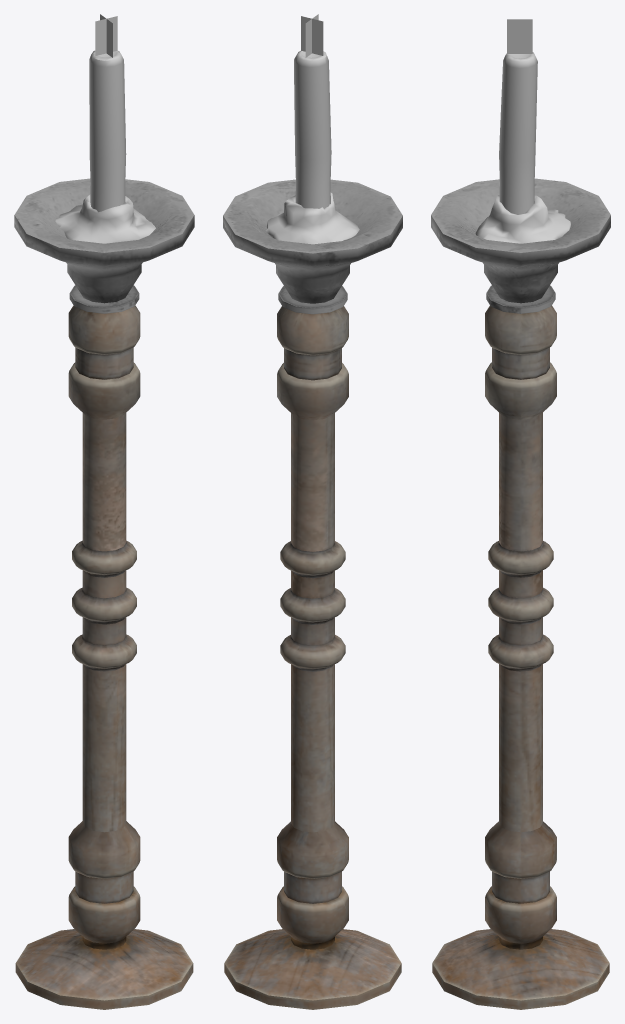
The model's file is SM_candlestick_04.fbx.
3 views of the same model, side by side, from view 1: azimuth 30°, elevation 25°; view 2: azimuth 150°, elevation 25°; view 3: azimuth 270°, elevation 25° (orthographic).
Visible parts, largest first — view 1: SM_candlestick_04_LOD0; view 2: SM_candlestick_04_LOD0; view 3: SM_candlestick_04_LOD0.
Boxes of the visible parts, x1,y1,x2,y2 form: SM_candlestick_04_LOD0: (14, 14, 194, 1009); SM_candlestick_04_LOD0: (223, 14, 402, 1009); SM_candlestick_04_LOD0: (431, 19, 610, 1009).
Bounding box in the file's own units: 32.39 × 32.39 × 189.
